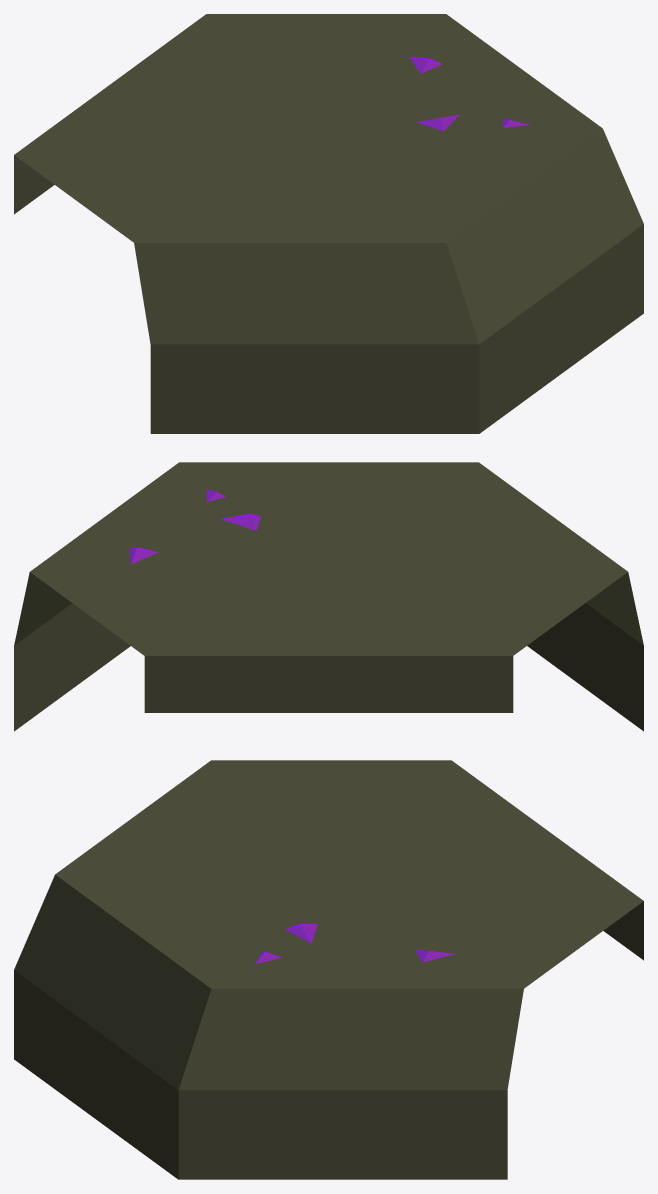
File: nearpointUnit5(2).fbx
3 views of the same model, one above another, from view 1: azimuth 30°, elevation 25°; view 2: azimuth 150°, elevation 25°; view 3: azimuth 270°, elevation 25° (orthographic). The views are drawn at different scales.
Visible parts, largest first — view 1: nearpointUnit5(2); view 2: nearpointUnit5(2); view 3: nearpointUnit5(2).
Boxes of the visible parts, x1=… form: nearpointUnit5(2): x1=14, y1=14, x2=643, y2=433; nearpointUnit5(2): x1=14, y1=462, x2=643, y2=731; nearpointUnit5(2): x1=14, y1=760, x2=643, y2=1179.
Size of the model in its own units: 1.73 by 1.91 by 0.6244.
